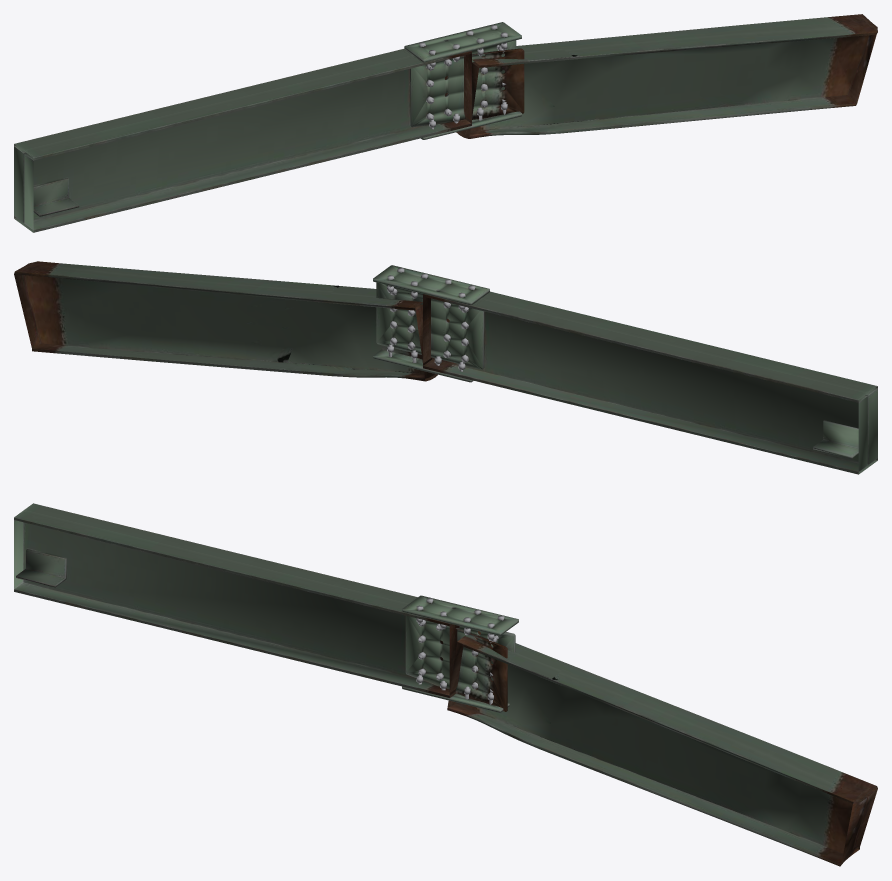
Rendered from industrial_ibeam_bolted_lod1.glb.
3 views of the same model, one above another, from view 1: azimuth 30°, elevation 25°; view 2: azimuth 150°, elevation 25°; view 3: azimuth 330°, elevation 25° (orthographic).
Visible parts, largest first — view 1: industrial_ibeam_bolted_paint, industrial_ibeam_bolted_bolt; view 2: industrial_ibeam_bolted_paint, industrial_ibeam_bolted_bolt; view 3: industrial_ibeam_bolted_paint, industrial_ibeam_bolted_bolt.
Part boxes in pixels (box(x1,y1,x2,y2)): industrial_ibeam_bolted_paint: box(14, 14, 877, 232); industrial_ibeam_bolted_bolt: box(419, 24, 507, 129); industrial_ibeam_bolted_paint: box(14, 261, 877, 474); industrial_ibeam_bolted_bolt: box(387, 268, 475, 371); industrial_ibeam_bolted_paint: box(14, 503, 877, 866); industrial_ibeam_bolted_bolt: box(416, 598, 504, 704).
Size of the model in its own units: 4.26 by 0.7579 by 0.226.
Materials: 2 (1 with a texture image).
